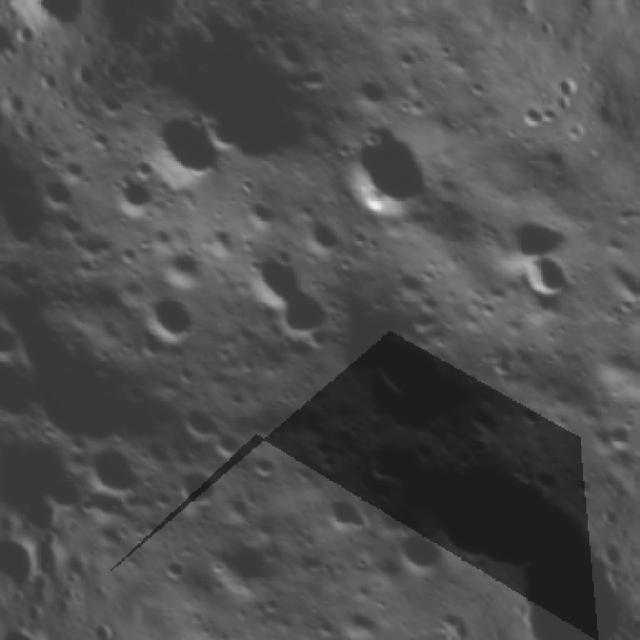crater: (380, 398, 586, 605), (318, 101, 454, 239), (128, 84, 246, 204), (355, 301, 471, 417), (193, 510, 289, 608), (260, 269, 355, 365), (222, 235, 310, 322), (493, 193, 576, 276), (74, 427, 149, 504), (513, 234, 589, 309), (381, 513, 456, 589), (96, 158, 169, 230), (138, 280, 208, 351), (306, 476, 376, 547), (164, 443, 230, 511), (174, 386, 234, 445), (509, 85, 566, 142), (203, 413, 259, 469), (29, 164, 80, 216), (238, 435, 288, 487), (50, 199, 98, 247), (393, 611, 456, 640), (155, 545, 196, 587), (578, 484, 616, 518)
